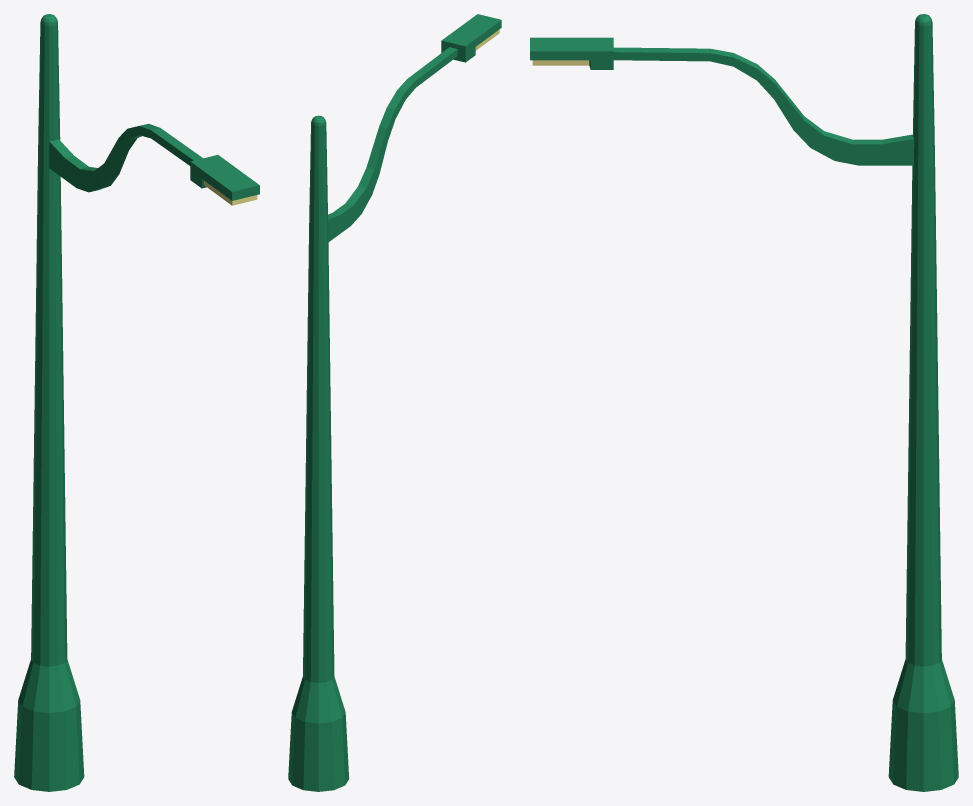
File: Street_Lamp.fbx
3 views of the same model, side by side, from view 1: azimuth 30°, elevation 25°; view 2: azimuth 150°, elevation 25°; view 3: azimuth 270°, elevation 25° (orthographic). The views are drawn at different scales.
Parts seen in each view (by area): view 1: StreetLamp; view 2: StreetLamp; view 3: StreetLamp.
Part boxes in pixels (x1,y1,x2,y2): StreetLamp: (14, 14, 259, 791); StreetLamp: (288, 14, 501, 791); StreetLamp: (530, 14, 958, 791).
Bounding box in the file's own units: 19.62 × 235 × 120.
